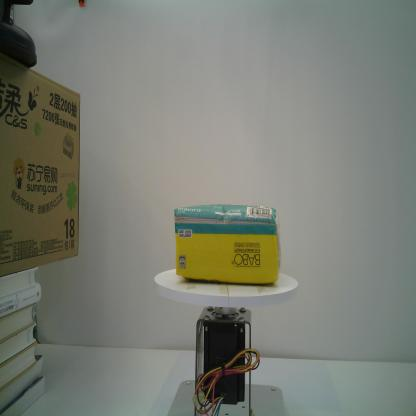Tissue: (173, 202, 283, 288)
